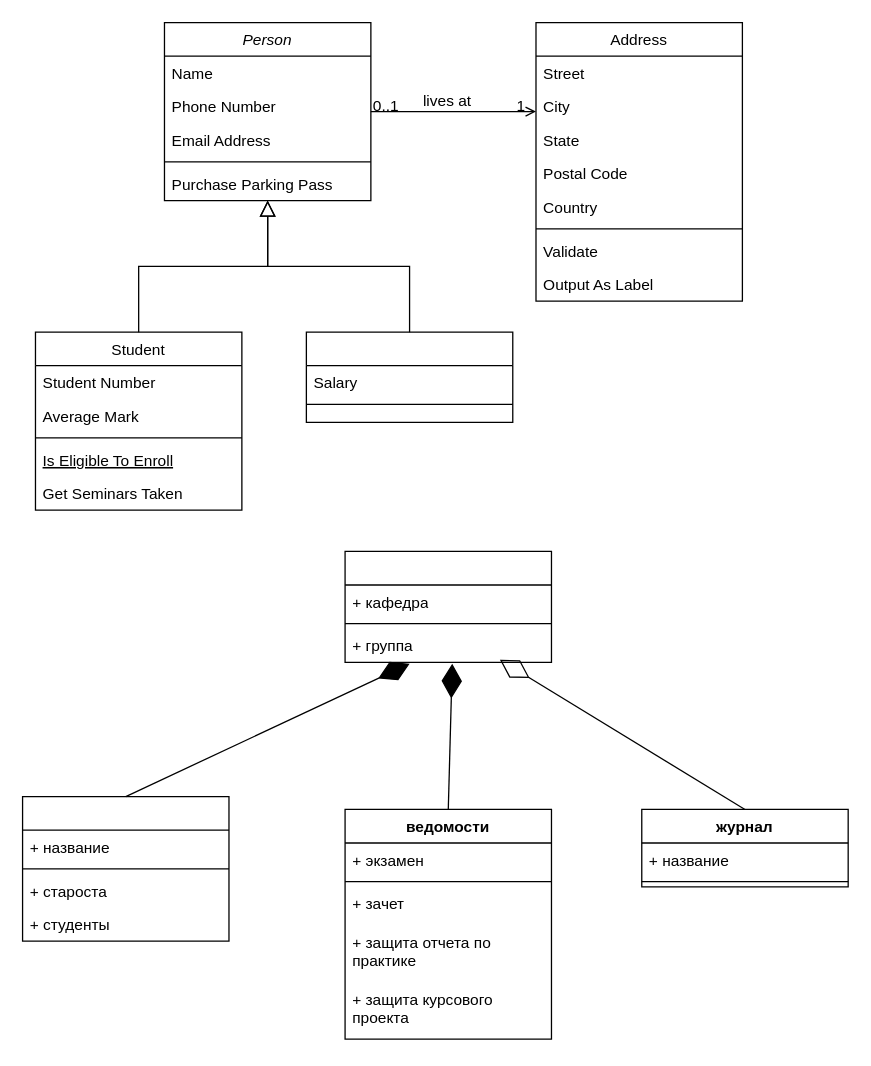
Some shapes in this 871 by 1066 pixel diagram are drawn without their labels. The shapes that lost their labels are listed below. From the top down, each one's box as (x1, y1, x2, y2) in pixels, then its label:
(305, 331, 513, 422): Professor
(344, 550, 551, 662): Деканат
(21, 795, 229, 941): группа
